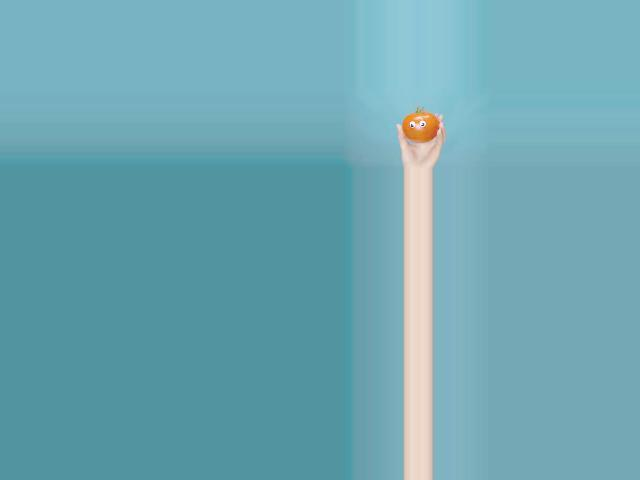tomato: (401, 111, 439, 143)
